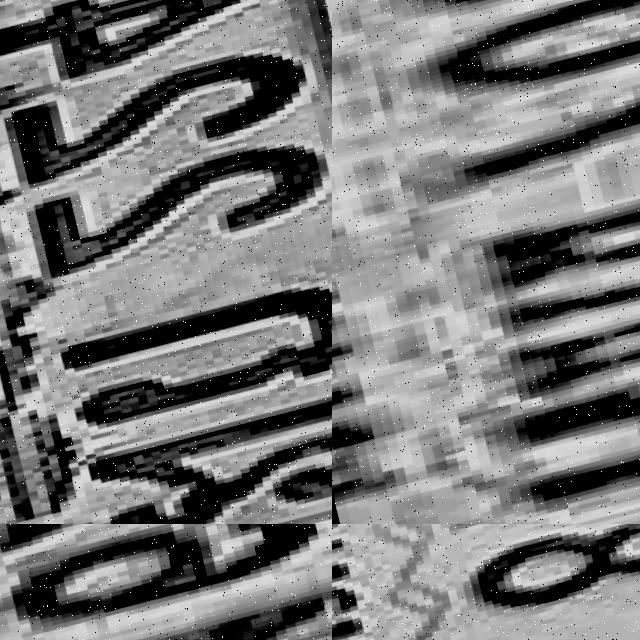license-plate: (0, 0, 332, 524), (332, 0, 640, 524), (0, 524, 332, 640), (332, 524, 640, 640)
